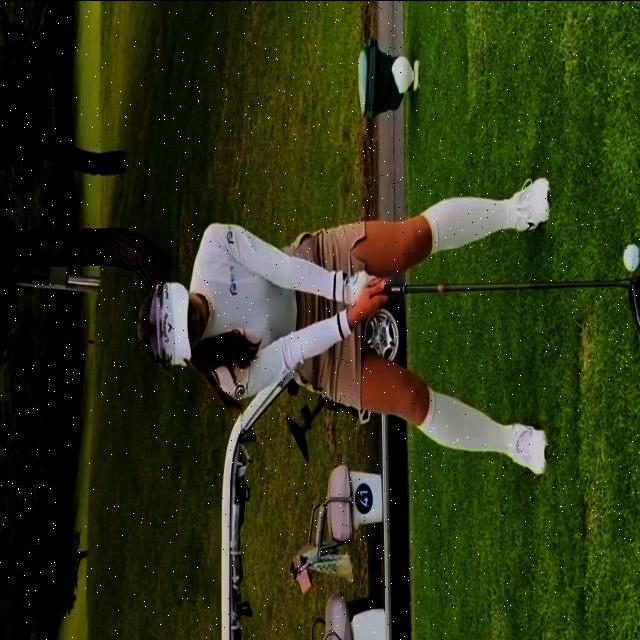ClubHandle: (385, 274, 640, 331)
ClubHead: (628, 273, 639, 331)
GolfBall: (622, 243, 640, 273)
